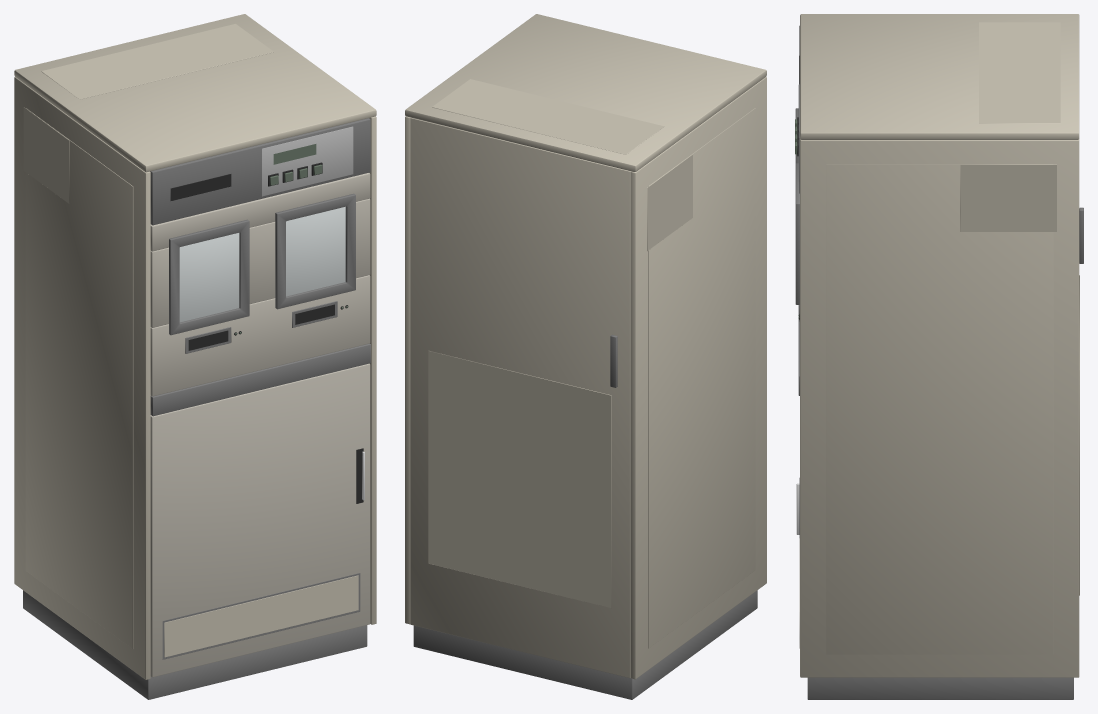
File: Kit_TapeDrive_Cartridge_Off.fbx
3 views of the same model, side by side, from view 1: azimuth 30°, elevation 25°; view 2: azimuth 150°, elevation 25°; view 3: azimuth 270°, elevation 25° (orthographic). The views are drawn at different scales.
Visible parts, largest first — view 1: Kit_TapeDrive_Cartridge_LOD0; view 2: Kit_TapeDrive_Cartridge_LOD0; view 3: Kit_TapeDrive_Cartridge_LOD0.
Part boxes in pixels (bbox=[...]): Kit_TapeDrive_Cartridge_LOD0: bbox=[14, 14, 376, 699]; Kit_TapeDrive_Cartridge_LOD0: bbox=[405, 14, 766, 699]; Kit_TapeDrive_Cartridge_LOD0: bbox=[795, 14, 1083, 699].
Size of what is drawn, in the model's own units: 0.7671 by 1.69 by 0.7756.
